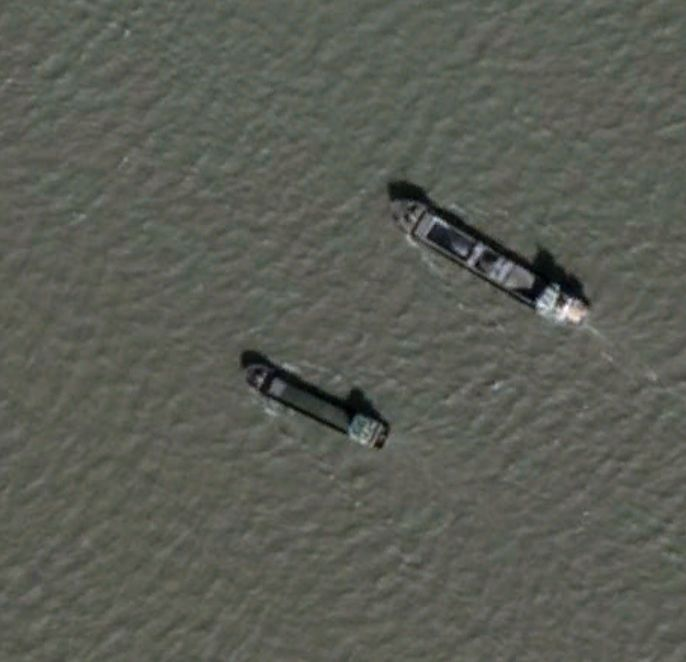boat: (383, 191, 590, 327), (237, 357, 392, 452)
